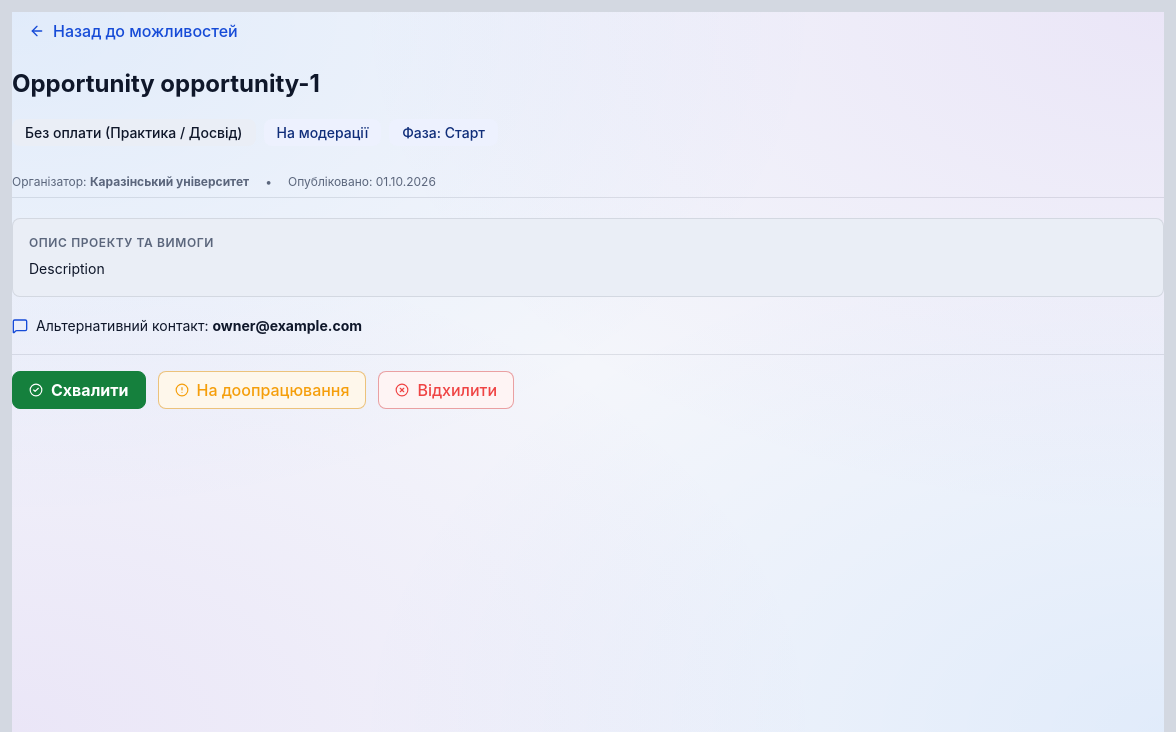
Test: opportunity detail moderation › should refresh the detail status and remove moderation actions after APPROVE
Click the button "Схвалити" at (79, 390), box [12, 371, 146, 409]
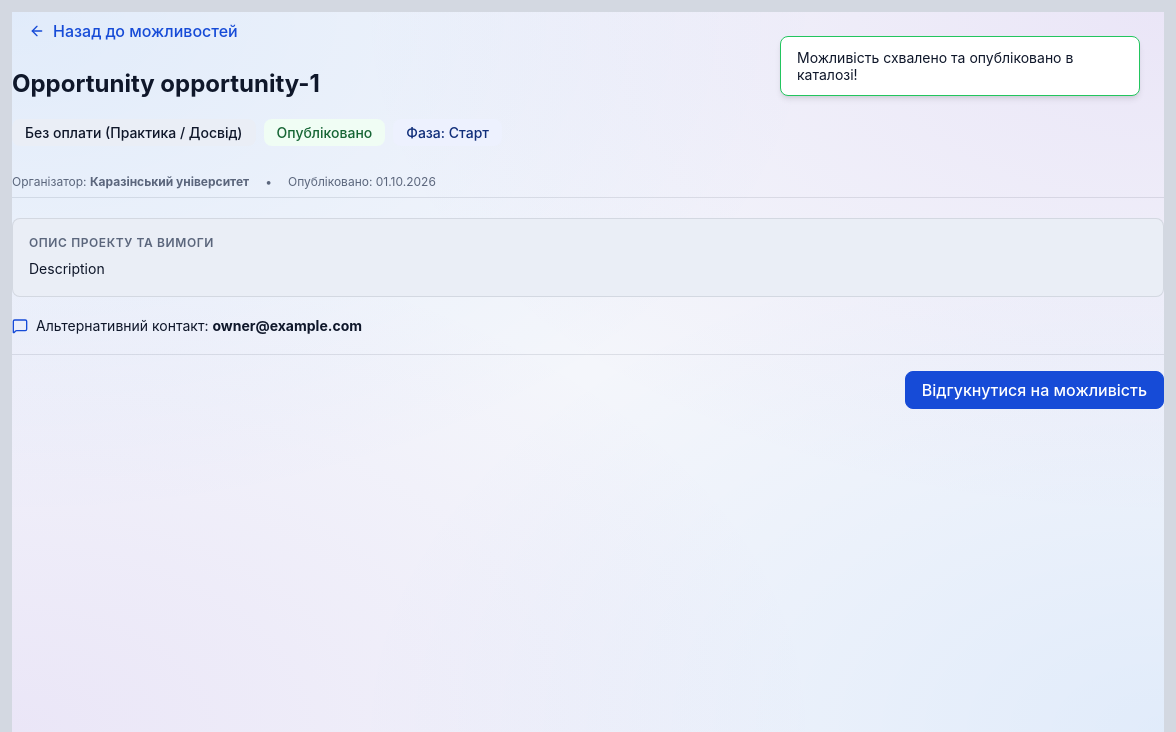
Result: the text "Опубліковано" is shown at [264, 119, 385, 146]
Result: the button "Схвалити" is gone
Result: the button "На доопрацювання" is gone
